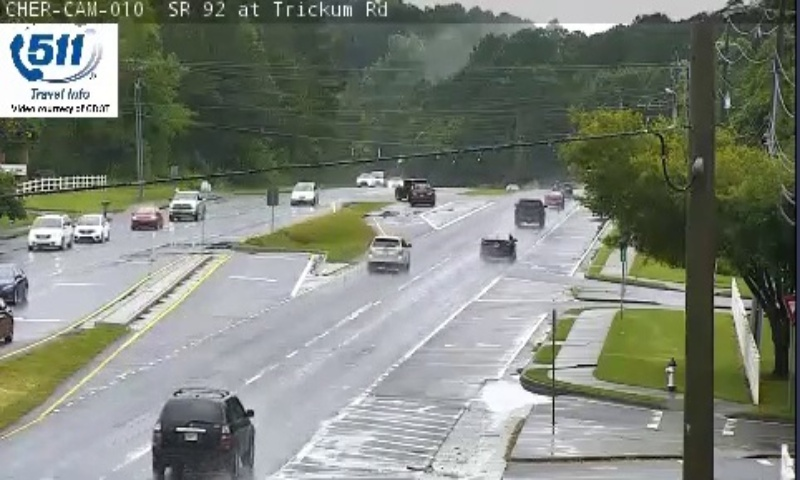car: (154, 387, 255, 463), (368, 234, 411, 265), (480, 232, 517, 258), (514, 198, 546, 225)
